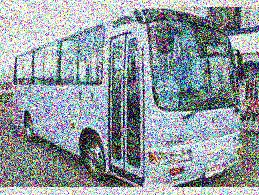bus: (9, 11, 242, 183)
